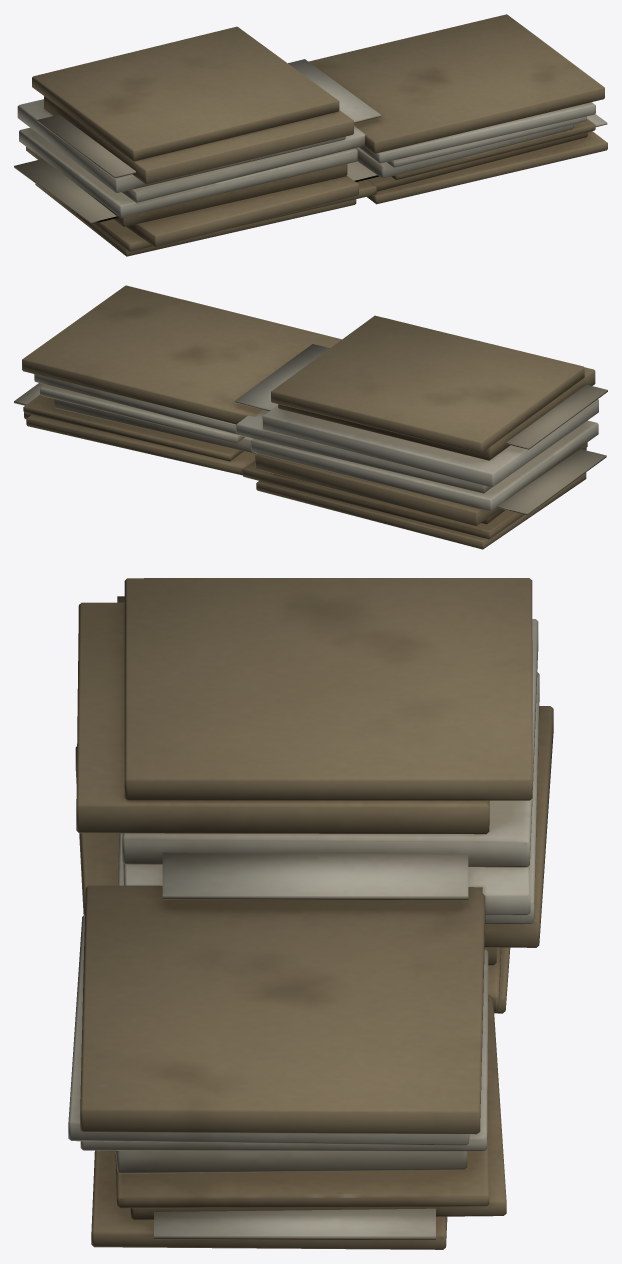
Rendered from aktenstapel.glb.
3 views of the same model, one above another, from view 1: azimuth 30°, elevation 25°; view 2: azimuth 150°, elevation 25°; view 3: azimuth 270°, elevation 25° (orthographic). The views are drawn at different scales.
Parts seen in each view (by area): view 1: stapel; view 2: stapel; view 3: stapel.
Part boxes in pixels (x1,y1,x2,y2): stapel: (14, 14, 607, 256); stapel: (14, 285, 607, 549); stapel: (68, 578, 553, 1249).
Bounding box in the file's own units: 0.7512 × 0.151 × 0.3078.
1 material, 1 textured.
